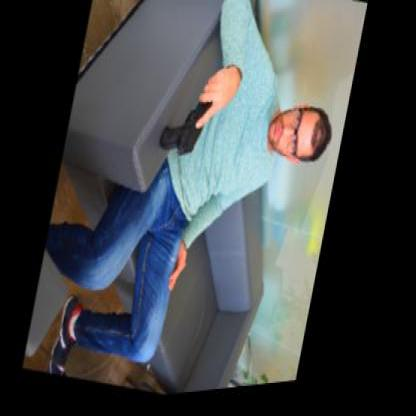pistol: (159, 91, 216, 167)
